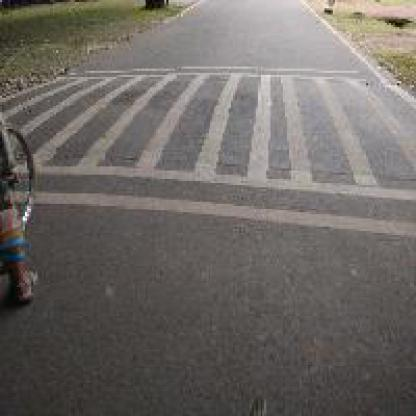Speed Bump: (39, 62, 412, 242)
